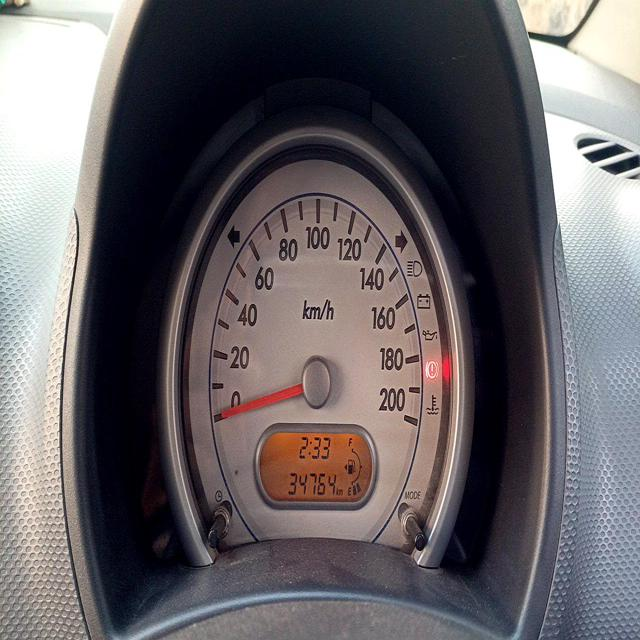odometer: (285, 469, 337, 501)
